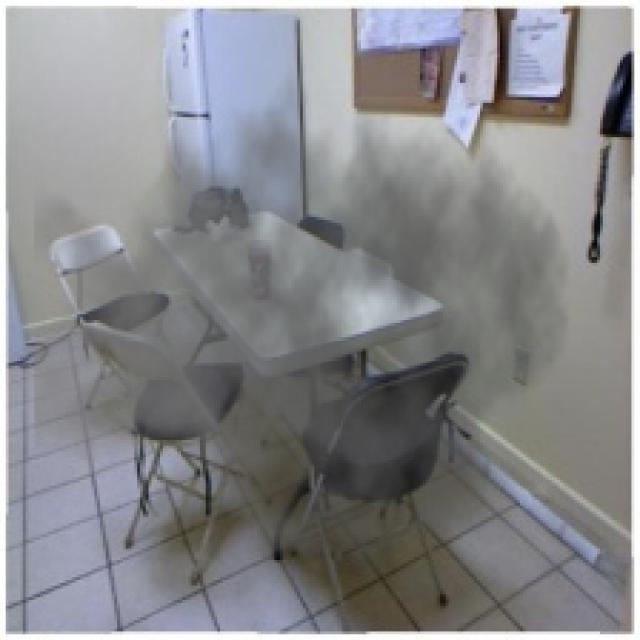smoke: (34, 46, 572, 588)
